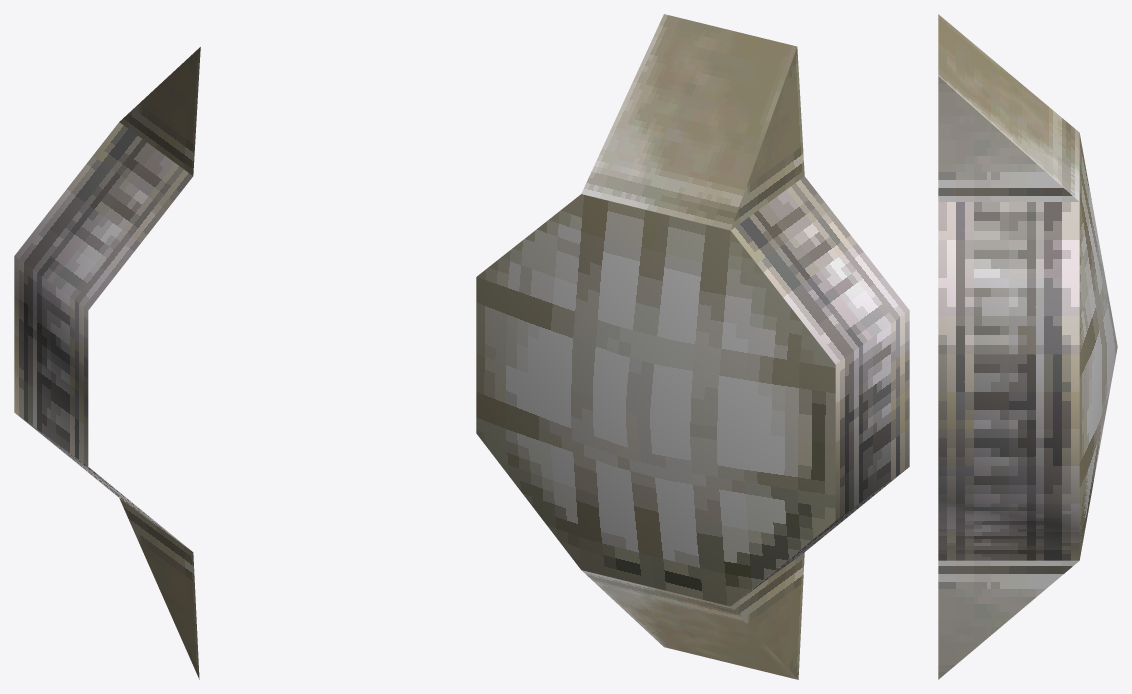
Rendered from WallLight2.glb.
3 renders of one model, left to right at view 1: azimuth 30°, elevation 25°; view 2: azimuth 150°, elevation 25°; view 3: azimuth 270°, elevation 25°, orthographic. The views are drawn at different scales.
Visible parts, largest first — view 1: WALLLIGHT2; view 2: WALLLIGHT2; view 3: WALLLIGHT2.
Part boxes in pixels (box(x1,y1,x2,y2)): WALLLIGHT2: box(14, 47, 200, 679); WALLLIGHT2: box(476, 14, 909, 679); WALLLIGHT2: box(938, 14, 1117, 679).
Bounding box in the file's own units: 0.291 × 0.49 × 0.132.
Materials: 1 (1 with a texture image).
